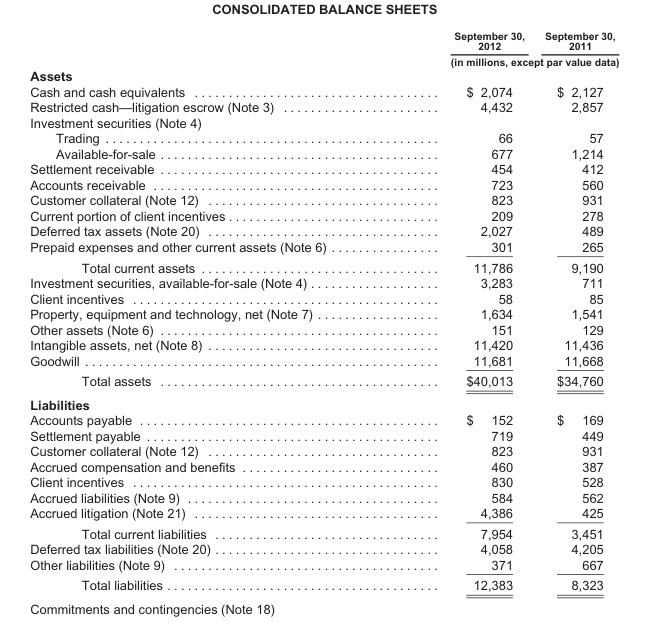table: (29, 29, 618, 592)
table column: (29, 29, 387, 592), (387, 29, 534, 592), (534, 29, 618, 592)
table column header: (29, 29, 618, 67)
table projected row header: (29, 392, 618, 411), (29, 67, 618, 83), (29, 114, 618, 130)
table row: (29, 29, 618, 53), (29, 370, 618, 392), (29, 392, 618, 411), (29, 238, 618, 256), (29, 256, 618, 274), (29, 352, 618, 370), (29, 504, 618, 522), (29, 522, 618, 540), (29, 556, 618, 574), (29, 574, 618, 592), (29, 67, 618, 83), (29, 98, 618, 114), (29, 114, 618, 130), (29, 145, 618, 161), (29, 176, 618, 192), (29, 207, 618, 223), (29, 274, 618, 290), (29, 305, 618, 321), (29, 336, 618, 352), (29, 411, 618, 427), (29, 442, 618, 458), (29, 473, 618, 489), (29, 540, 618, 556), (29, 83, 618, 98), (29, 130, 618, 145), (29, 161, 618, 176), (29, 192, 618, 207), (29, 223, 618, 238), (29, 290, 618, 305), (29, 321, 618, 336), (29, 427, 618, 442), (29, 458, 618, 473), (29, 489, 618, 504), (29, 53, 618, 67)
table spanning cell: (387, 53, 618, 67)
